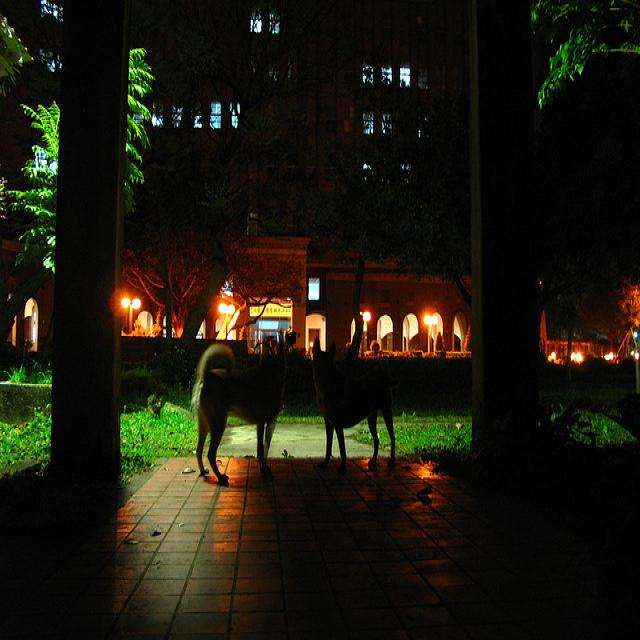Dog: (174, 334, 476, 492)
